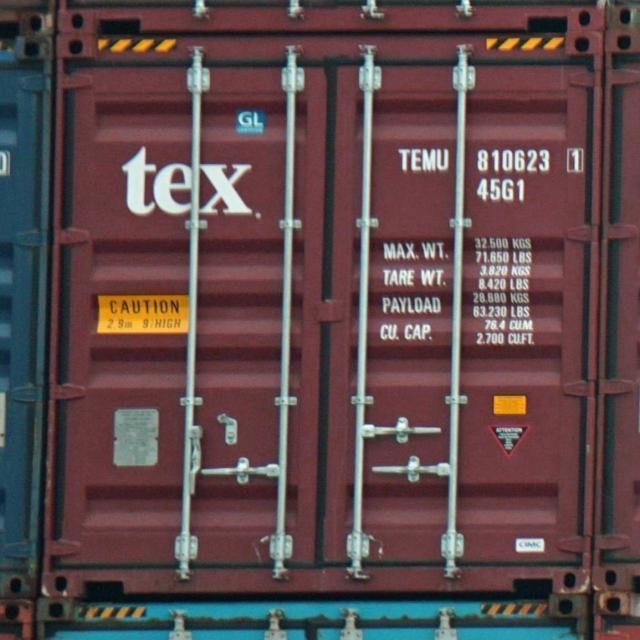ISO: (473, 176, 528, 201)
container_number: (393, 143, 581, 176)
